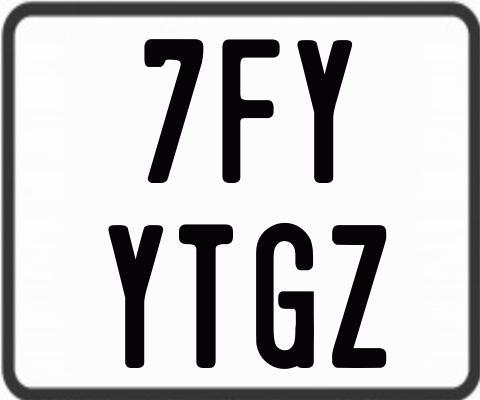7: (141, 36, 204, 183)
F: (219, 39, 278, 184)
G: (253, 222, 314, 373)
T: (176, 223, 234, 371)
Y: (297, 37, 354, 185), (106, 222, 163, 367)
Z: (331, 223, 386, 370)
